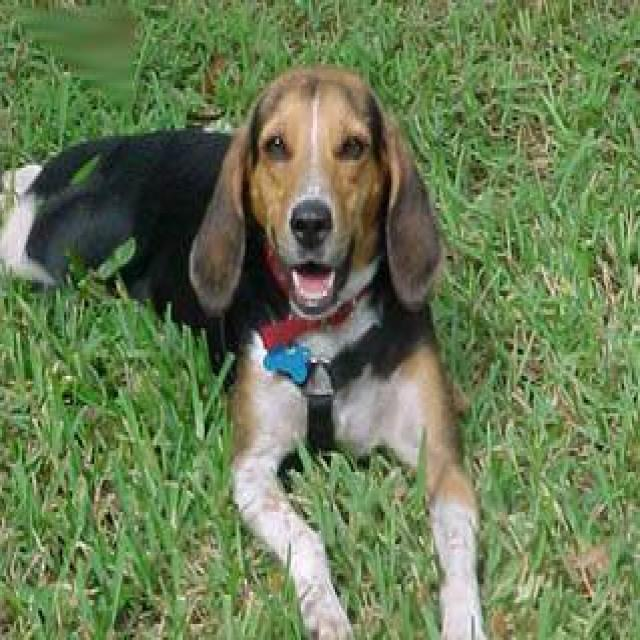dog: (0, 62, 490, 638)
